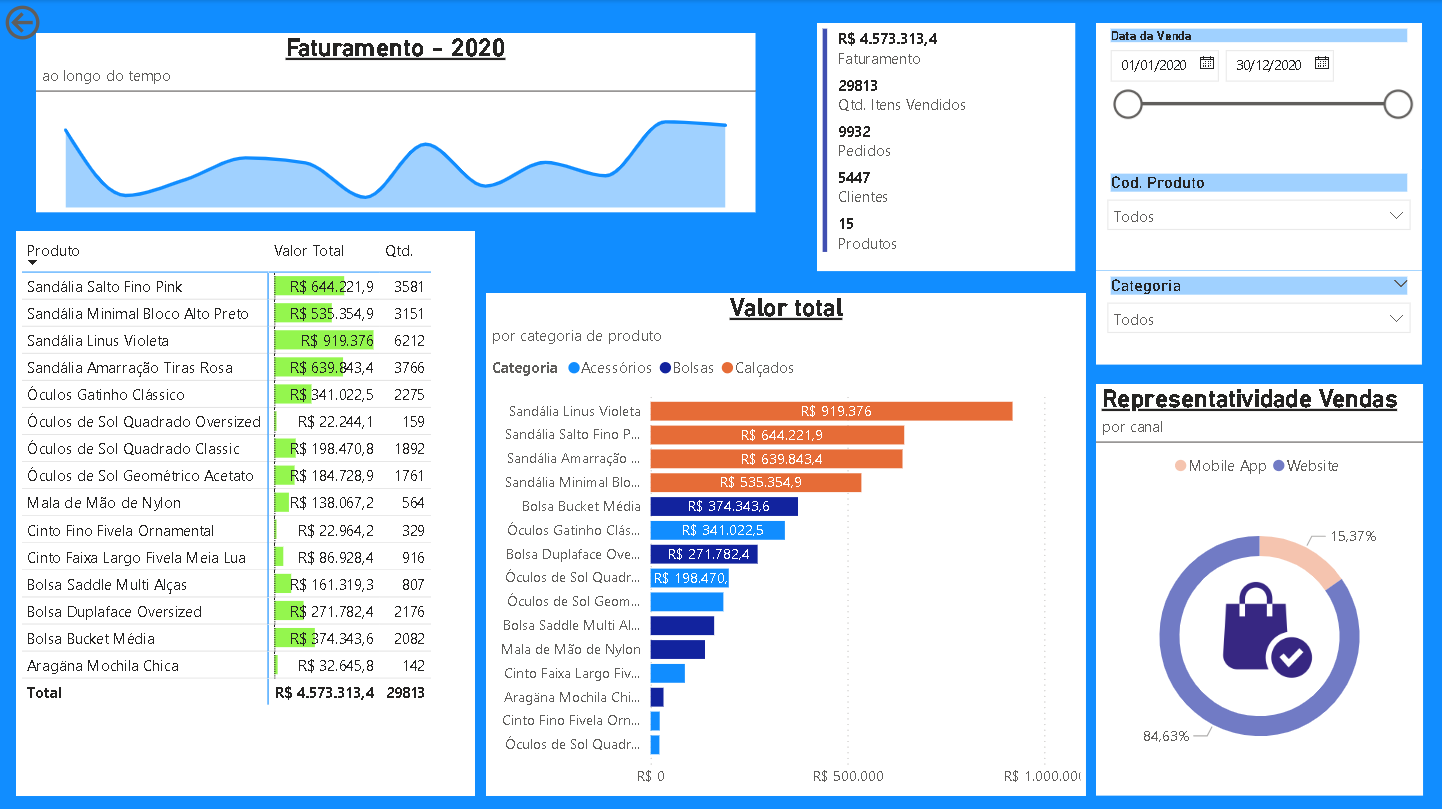

This screenshot's page, from the dashboard's own definition file:
{"tool":"powerbi","page":{"name":"Página 1","canvas":[1280,720],"ordinal":0},"visuals":[{"type":"multiRowCard","fields":{"Values":["Sum(Histórico Vendas.Valor Total)","Sum(Histórico Vendas.Quantidade)","Histórico Vendas.Pedido","Count(Histórico Vendas.ID Cliente)","Histórico Vendas.Cod. Produto"]},"box":[724.4,20.4,228.8,219.9],"z":0},{"type":"areaChart","title":"Faturamento - 2020","fields":{"Category":["Histórico Vendas.Nome do Mês"],"Y":["Sum(Histórico Vendas.Valor Total)"]},"box":[31.9,29.3,637.5,158.7],"z":1000},{"type":"barChart","title":"Valor total","fields":{"Category":["Produtos.Categoria","Produtos.Produto"],"Y":["Sum(Histórico Vendas.Valor Total)"],"Series":["Produtos.Categoria"]},"box":[430.9,259.8,532,446],"z":2000},{"type":"actionButton","box":[0,0,100,40],"z":3000},{"type":"donutChart","title":"Representatividade Vendas","fields":{"Y":["Sum(Histórico Vendas.Valor Total)"],"Series":["Histórico Vendas.Canal de Venda"]},"box":[971.8,340.5,290,365.3],"z":4000},{"type":"image","box":[1076.5,493,94.9,131.2],"z":5000},{"type":"pivotTable","fields":{"Rows":["Produtos.Categoria","Produtos.Produto"],"Values":["Sum(Histórico Vendas.Valor Total)","Sum(Histórico Vendas.Quantidade)"]},"box":[14.2,204.8,407,501],"z":6000},{"type":"slicer","fields":{"Values":["Histórico Vendas.Data da Venda"]},"box":[971.8,20.4,289.1,128.6],"z":7000},{"type":"slicer","fields":{"Values":["Histórico Vendas.Cod. Produto"]},"box":[971.8,149,289.1,91.3],"z":8000},{"type":"slicer","fields":{"Values":["Produtos.Categoria"]},"box":[971.8,240.3,289.1,83.3],"z":9000}]}

Visuals, with their boxes in screenshot pixels (x1, y1, x2, y2), scaled from the page's 1280x720 canvas onto the 1442x809 screenshot:
multiRowCard - Sum(Histórico Vendas.Valor Total) x Sum(Histórico Vendas.Quantidade): region(816, 23, 1074, 270)
"Faturamento - 2020" areaChart: region(36, 33, 754, 211)
"Valor total" barChart: region(485, 292, 1085, 793)
actionButton: region(0, 0, 113, 45)
"Representatividade Vendas" donutChart: region(1095, 383, 1421, 793)
image: region(1213, 554, 1320, 701)
pivotTable - Produtos.Categoria x Produtos.Produto: region(16, 230, 475, 793)
slicer - Histórico Vendas.Data da Venda: region(1095, 23, 1420, 167)
slicer - Histórico Vendas.Cod. Produto: region(1095, 167, 1420, 270)
slicer - Produtos.Categoria: region(1095, 270, 1420, 364)
